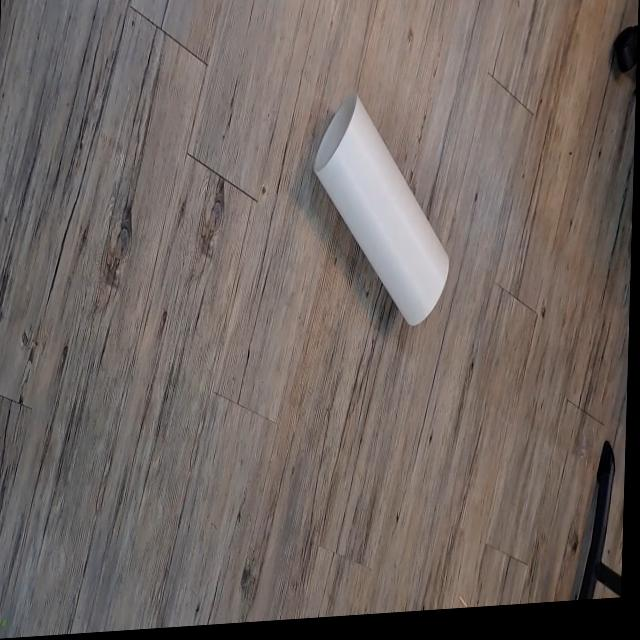CORAL: (291, 94, 464, 341)
